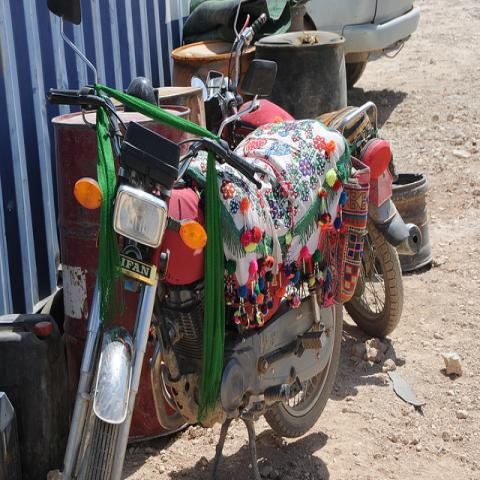car: (308, 0, 420, 87)
motorcycle: (46, 1, 348, 475), (192, 15, 422, 337)
